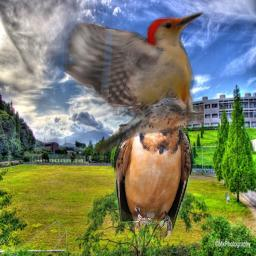Swallow: (113, 94, 198, 240)
Woodpecker: (42, 9, 204, 152)
